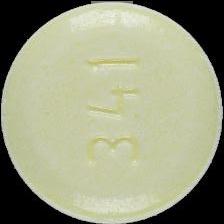0555-9066: (0, 0, 224, 224)
